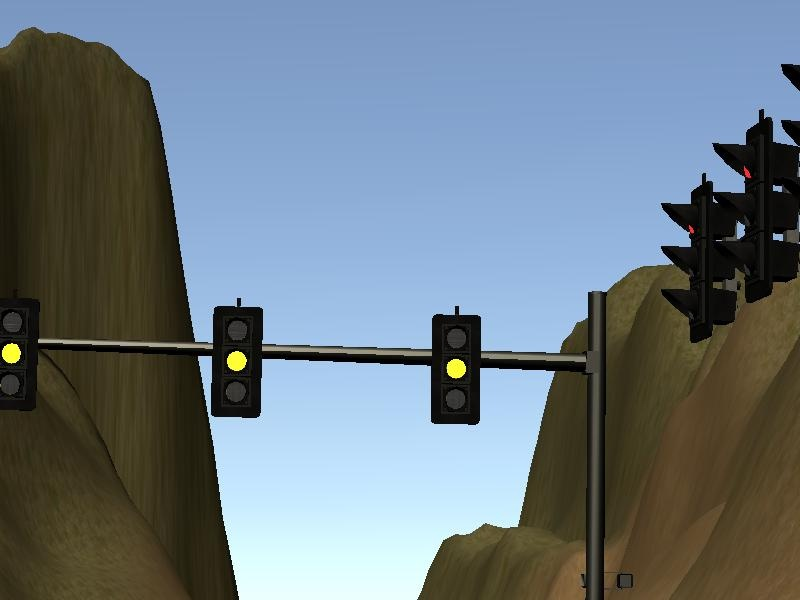YELLOW: (207, 301, 264, 420), (427, 309, 484, 428), (1, 291, 39, 411)
